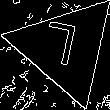L_S: (44, 20, 86, 76)
